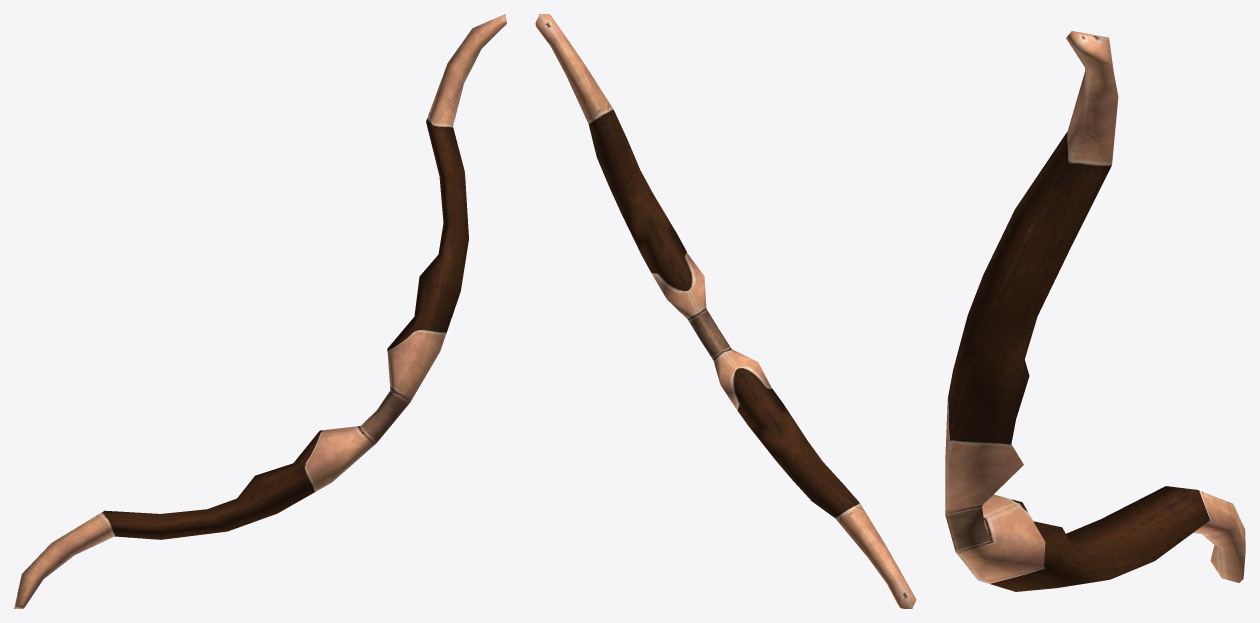
Rendered from weapon-copperweapons.glb.
3 views of the same model, side by side, from view 1: azimuth 30°, elevation 25°; view 2: azimuth 150°, elevation 25°; view 3: azimuth 270°, elevation 25° (orthographic). The views are drawn at different scales.
Bounding box in the file's own units: 1.03 × 1.11 × 0.3244.
1 material, 1 textured.
